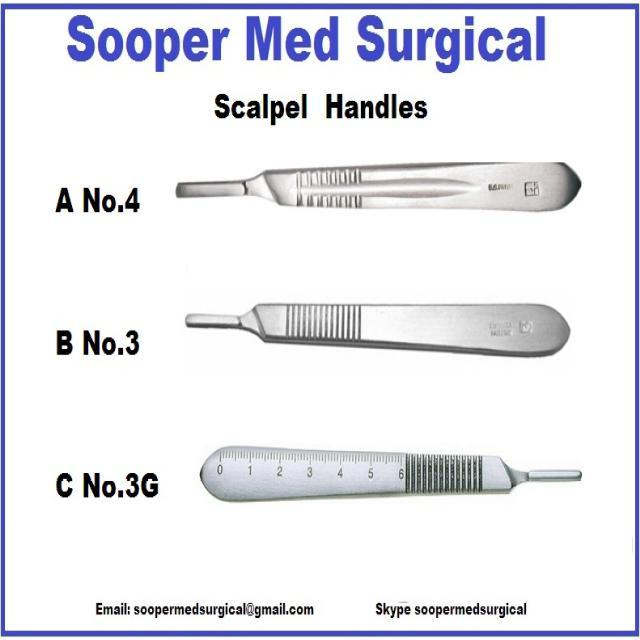Knife handle: (182, 287, 576, 372), (174, 148, 582, 228), (196, 442, 586, 502)
